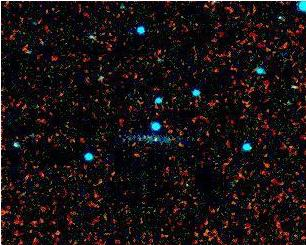star: (142, 125, 172, 155)
